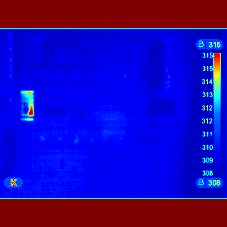Less: (16, 103, 45, 126)
